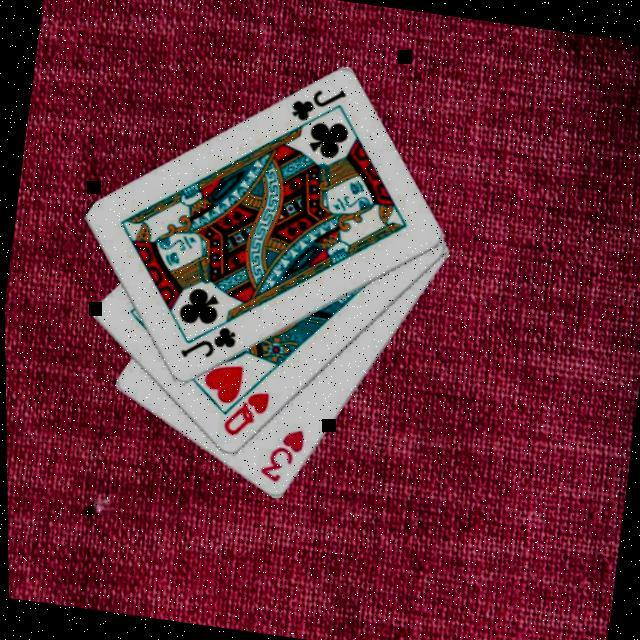3H: (254, 424, 309, 490)
JC: (175, 319, 241, 369), (286, 81, 351, 131)
QH: (218, 385, 273, 445)
